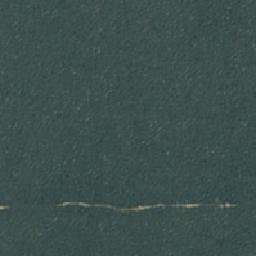debris: (57, 200, 202, 214), (216, 202, 235, 210), (1, 203, 11, 212)
